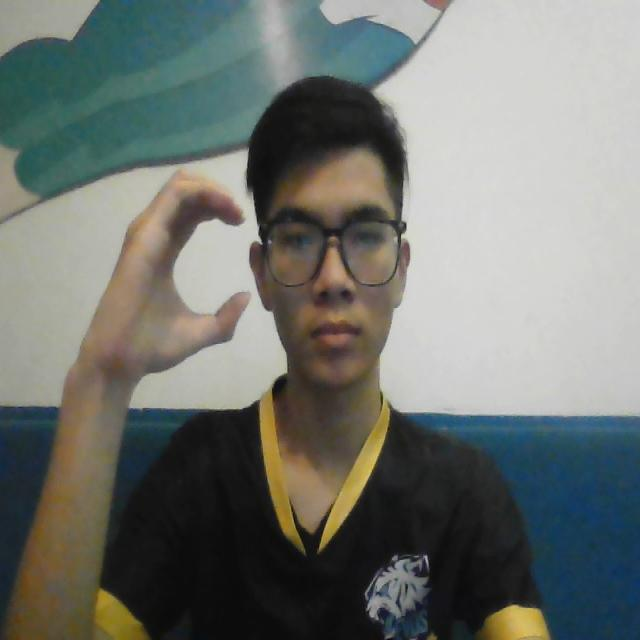C: (96, 162, 258, 394)
